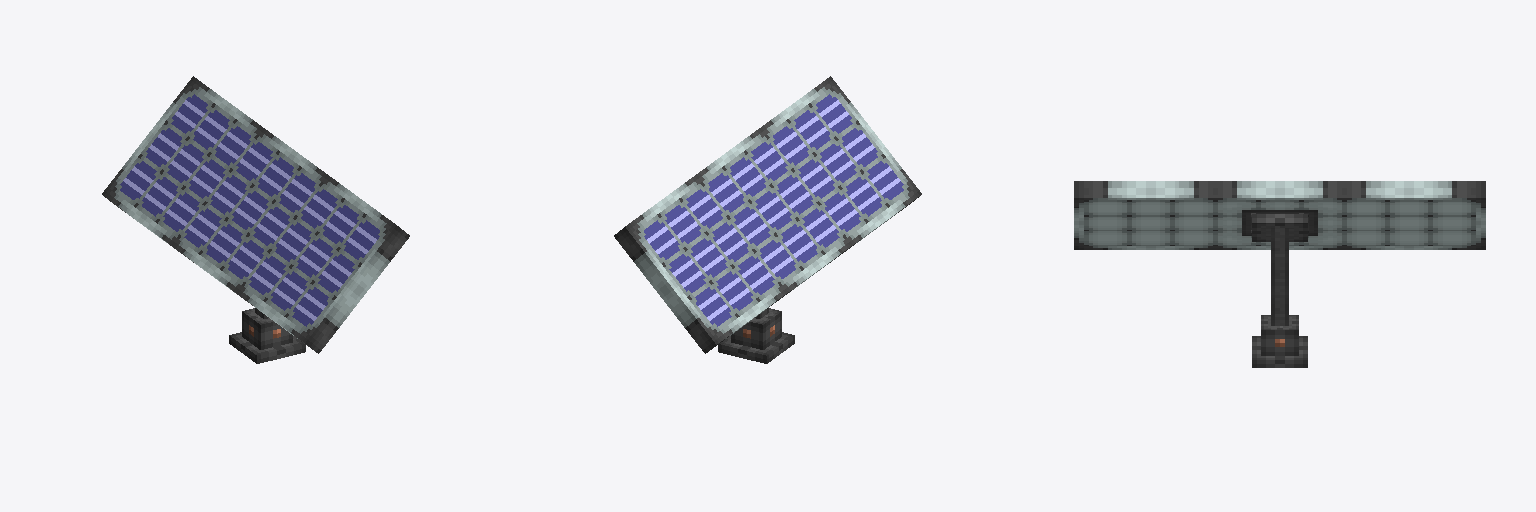
3 renders of one model, left to right at view 1: azimuth 30°, elevation 25°; view 2: azimuth 150°, elevation 25°; view 3: azimuth 270°, elevation 25°, orthographic.
Visible parts, largest first — view 1: Panel, Center, Bottom; view 2: Panel, Center, Bottom; view 3: Panel, Bottom, Armature, Center.
Part boxes in pixels (bbox=[...]): Panel: bbox=[102, 76, 409, 353]; Center: bbox=[242, 308, 292, 349]; Bottom: bbox=[229, 332, 305, 363]; Panel: bbox=[614, 76, 921, 353]; Center: bbox=[731, 308, 781, 349]; Bottom: bbox=[718, 332, 794, 363]; Panel: bbox=[1074, 181, 1485, 249]; Bottom: bbox=[1252, 214, 1307, 367]; Armature: bbox=[1271, 228, 1288, 325]; Center: bbox=[1261, 315, 1298, 355].
Bounding box in the file's own units: 0.7955 × 1.4 × 2.75.
Materials: 1 (1 with a texture image).